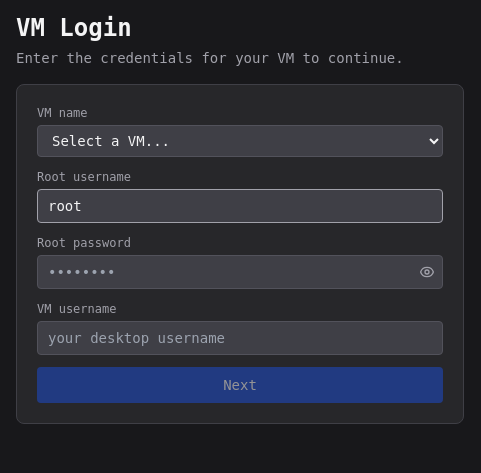
Test: VmLoginPage — standalone mode › shows an error naming the VM user when it does not exist on the guest
Select "FedoraBox" in the dropdown at (240, 141), box left=37, top=125, right=443, bottom=157
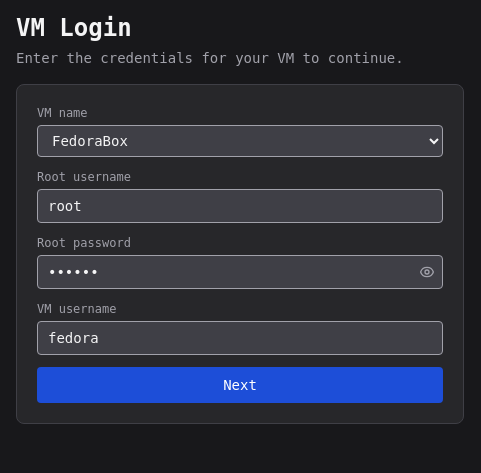
Click the button "Next".
click(240, 385)  # box left=37, top=367, right=443, bottom=403
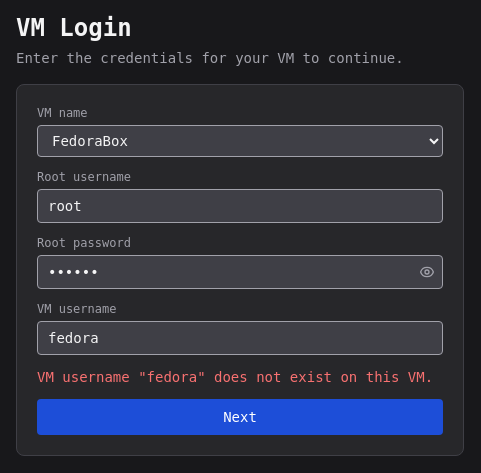
Check: the text "VM username \"fedora\" does not exist on this VM." is shown, box left=37, top=367, right=443, bottom=387
